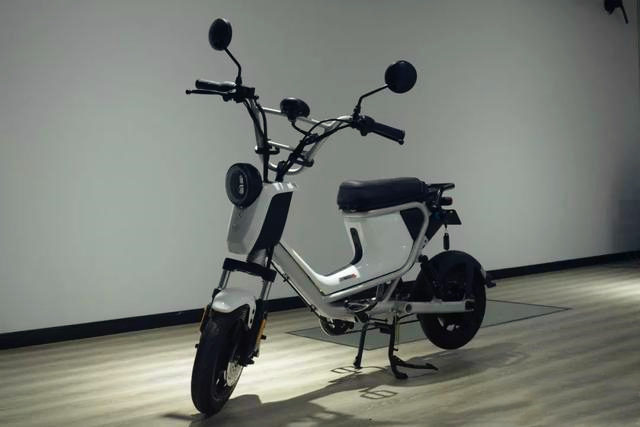电动车: (166, 10, 522, 417)
